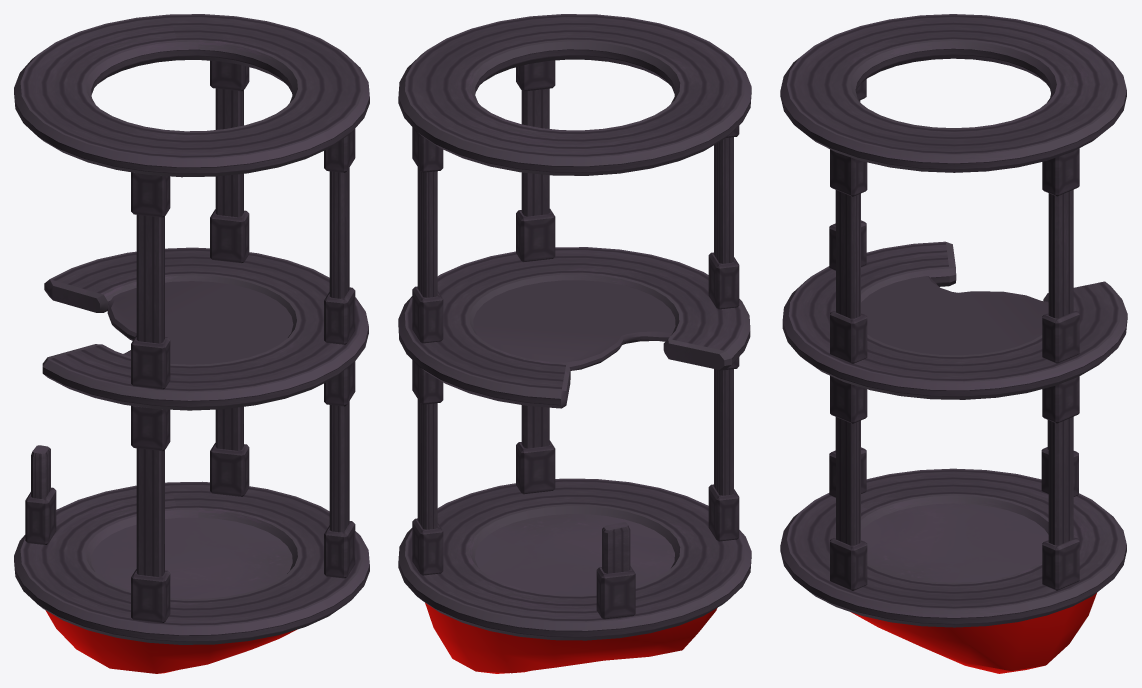
The model's file is PRM Skybox Building Tall.fbx.
3 renders of one model, left to right at view 1: azimuth 30°, elevation 25°; view 2: azimuth 150°, elevation 25°; view 3: azimuth 270°, elevation 25°, orthographic. The views are drawn at different scales.
Visible parts, largest first — view 1: Skybox Building Tall; view 2: Skybox Building Tall; view 3: Skybox Building Tall.
Boxes of the visible parts, left/top/right/bottom form: Skybox Building Tall: left=14, top=14, right=369, bottom=673; Skybox Building Tall: left=398, top=14, right=751, bottom=673; Skybox Building Tall: left=780, top=14, right=1127, bottom=673.
Bounding box in the file's own units: 830 × 1471 × 831.
